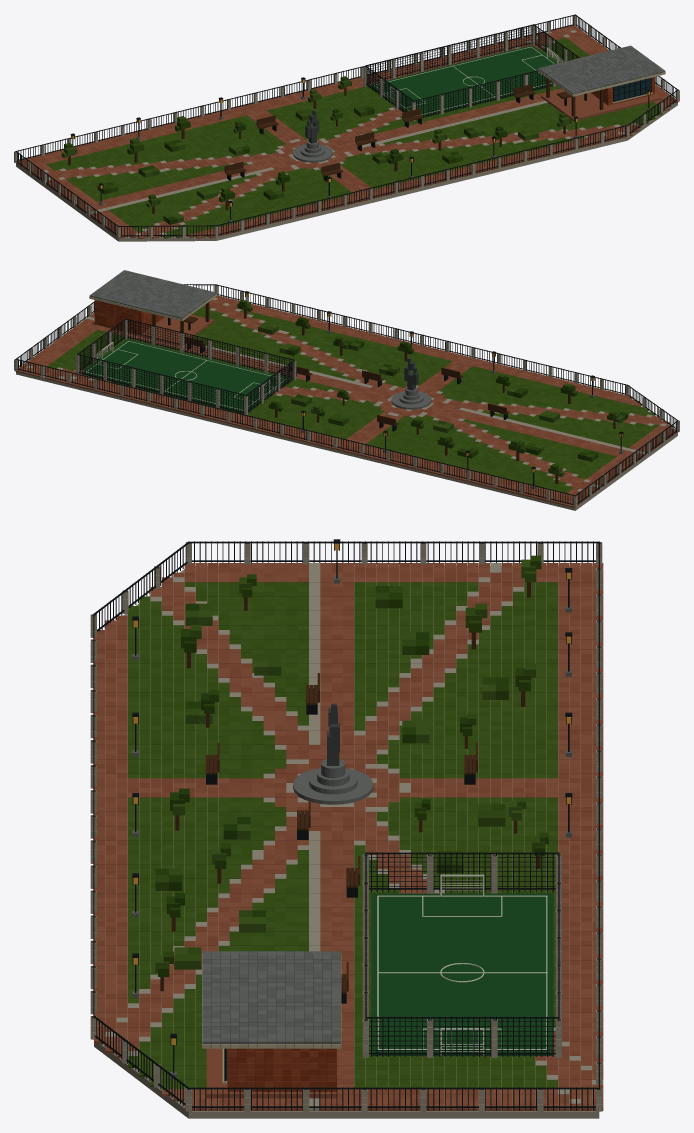
The model's file is SM_Mapa_062.fbx.
3 views of the same model, one above another, from view 1: azimuth 30°, elevation 25°; view 2: azimuth 150°, elevation 25°; view 3: azimuth 270°, elevation 25° (orthographic). The views are drawn at different scales.
Parts seen in each view (by area): view 1: SM_Mapa_062; view 2: SM_Mapa_062; view 3: SM_Mapa_062.
Boxes of the visible parts, box(x1,y1,x2,y2) form: SM_Mapa_062: box(14, 14, 679, 241); SM_Mapa_062: box(14, 270, 679, 510); SM_Mapa_062: box(90, 539, 603, 1118).
Size of the model in its own units: 80 by 31.59 by 6.45.
